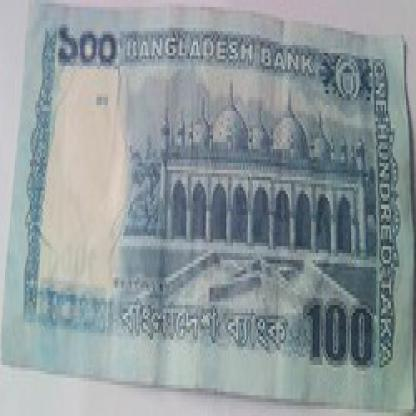one hundred taka: (300, 284, 380, 378), (51, 14, 132, 87)
